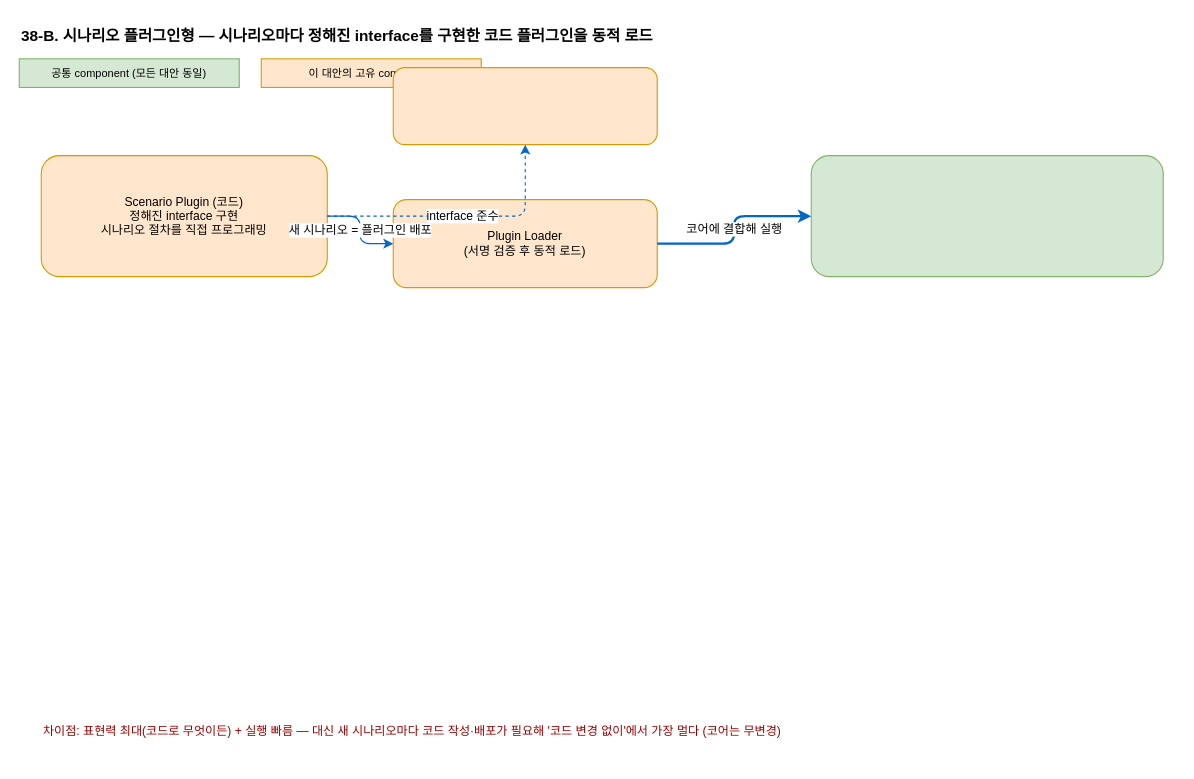
This 1194x779 diagram has some shape labels left out. The centre of each missing label's shape, as x and y in pixels:
Scenario Interface (SDK) (코어가 요구하는 계약): [524,106]
협상 코어 (공통) 라운드 실행 · 완결 판정 · 메시지 프로토콜 (코드 변경 없이 유지되는 부분): [986,216]
